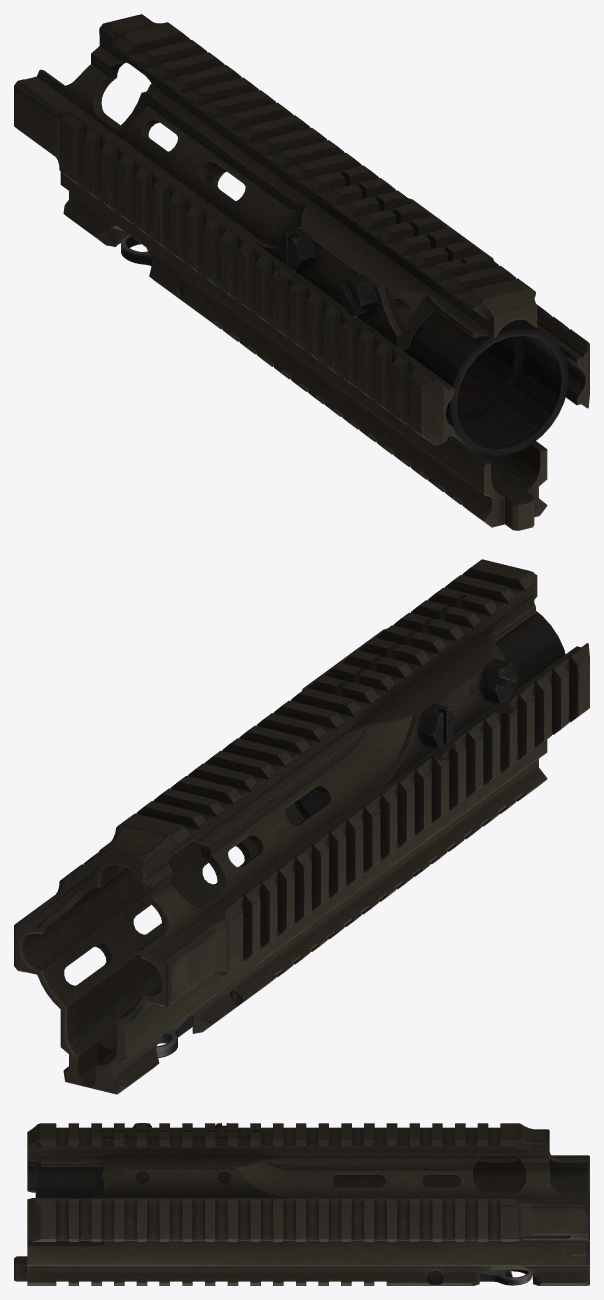
The picture shows the model from 3 angles, top to bottom: view 1: azimuth 30°, elevation 25°; view 2: azimuth 150°, elevation 25°; view 3: azimuth 270°, elevation 25°; orthographic projection. The views are drawn at different scales.
Visible parts, largest first — view 1: TW_61712eae6c780c1e710c9a1d_PZ_Import; view 2: TW_61712eae6c780c1e710c9a1d_PZ_Import; view 3: TW_61712eae6c780c1e710c9a1d_PZ_Import.
Boxes of the visible parts, left/top/right/bottom form: TW_61712eae6c780c1e710c9a1d_PZ_Import: left=14, top=14, right=589, bottom=530; TW_61712eae6c780c1e710c9a1d_PZ_Import: left=14, top=559, right=589, bottom=1094; TW_61712eae6c780c1e710c9a1d_PZ_Import: left=14, top=1123, right=589, bottom=1285.
Bounding box in the file's own units: 0.0329 × 0.1465 × 0.0412.
Materials: 1 (1 with a texture image).
